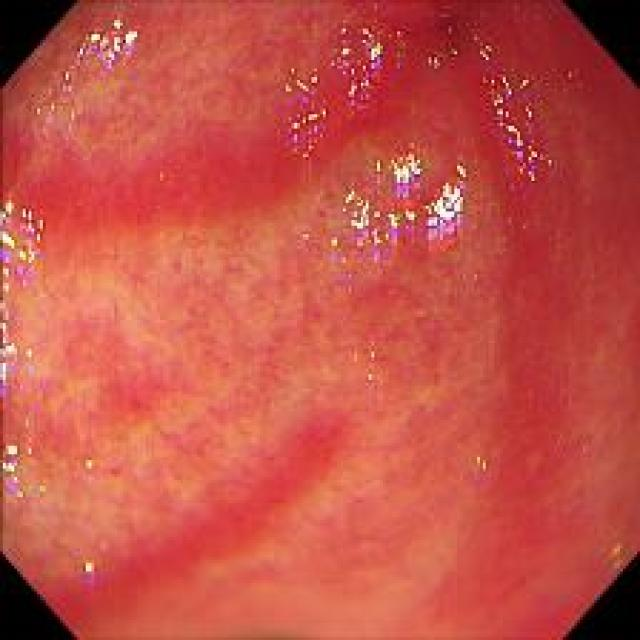color misalignment: (338, 149, 468, 256), (479, 41, 549, 172), (0, 186, 38, 401), (330, 16, 385, 119), (282, 59, 328, 162), (80, 10, 139, 74), (0, 430, 36, 514), (84, 555, 100, 599)
